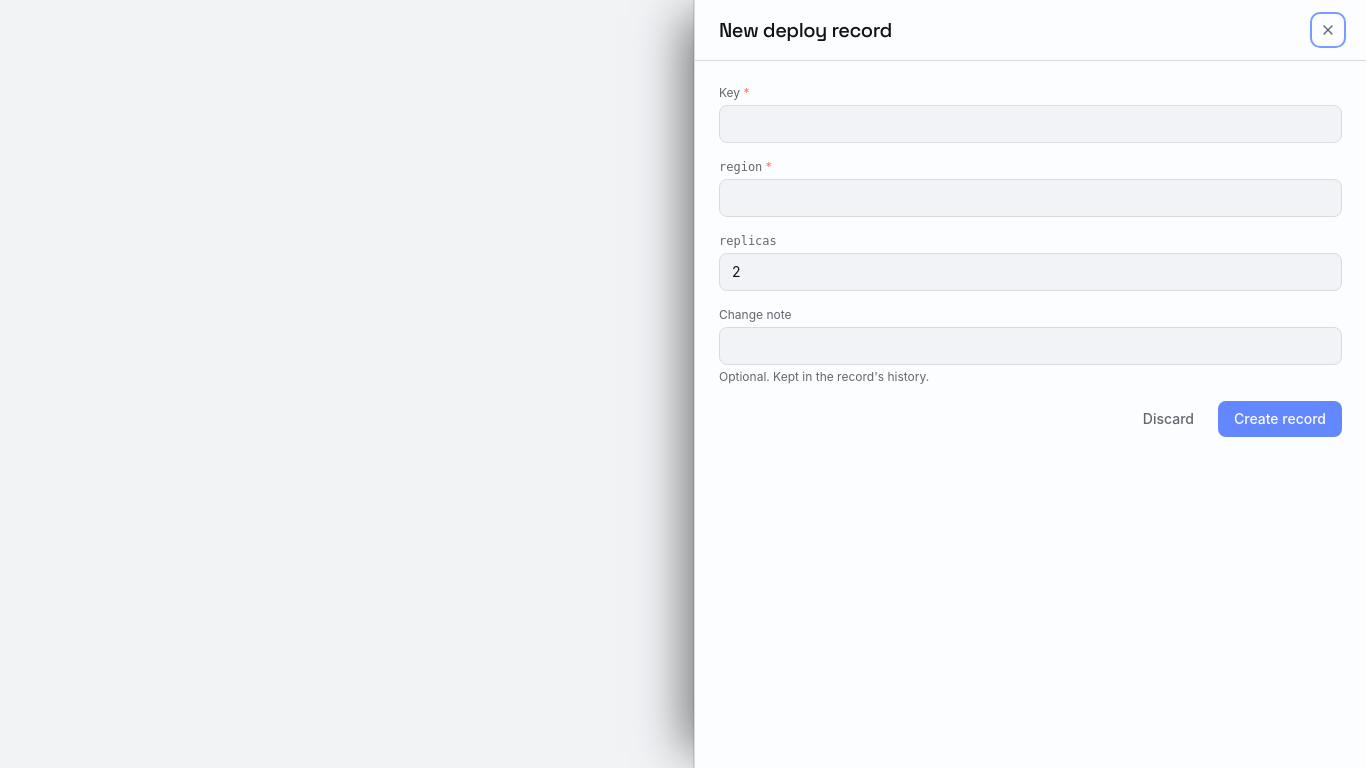
creating a record with a split restriction › refuses a key only the read side admits, before sending anything
Step 1. Type "pub/a" into the field labelled "Key *" → (1030, 124), box [719,105,1342,143]
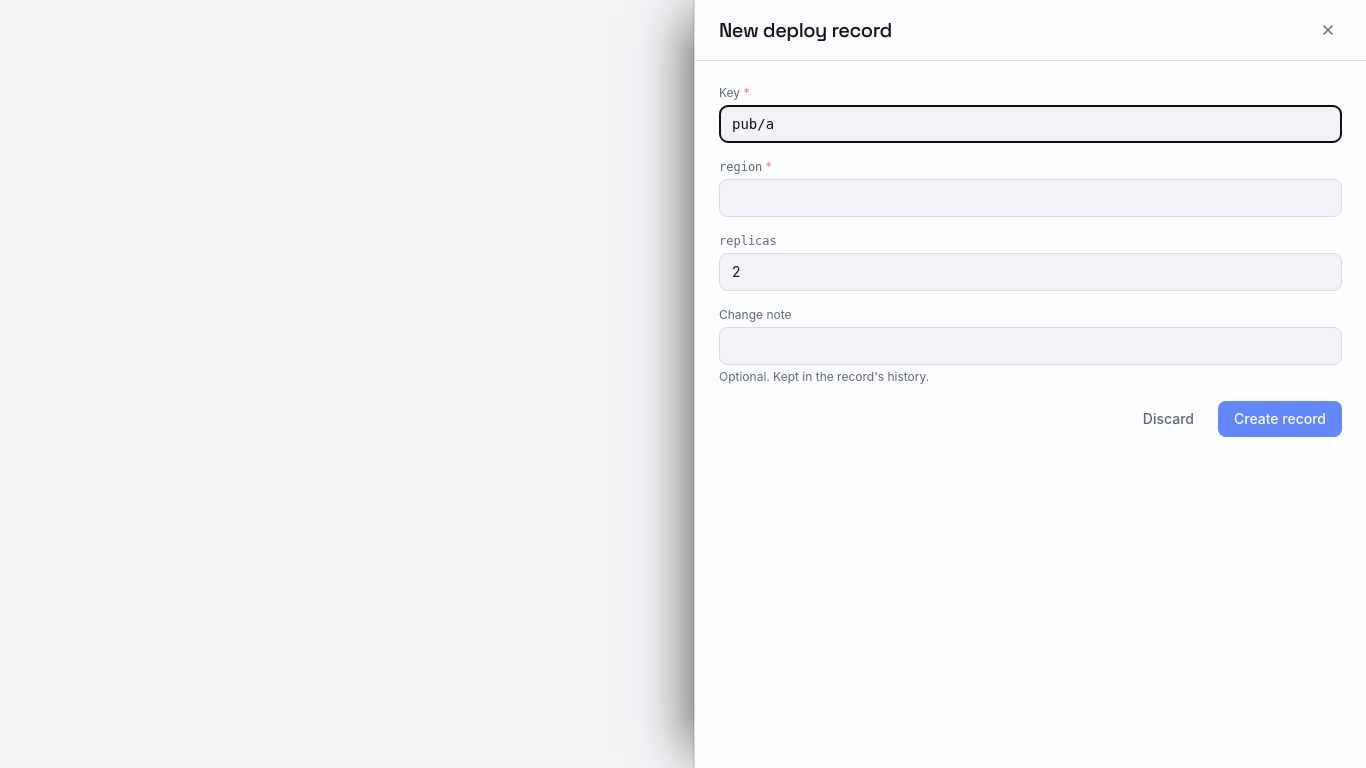
Step 2. Type "us" into the field labelled "region *" → (1030, 198), box [719,179,1342,217]
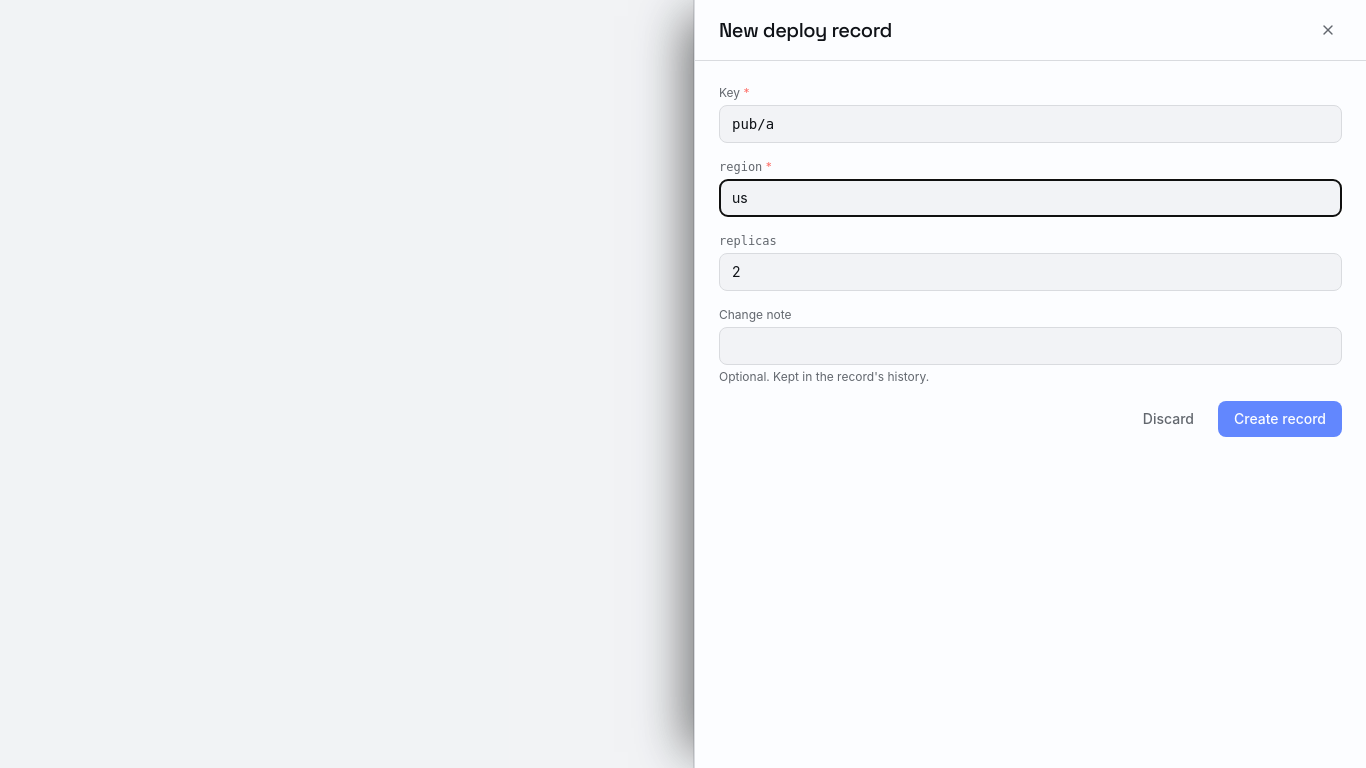
Step 3. Click the button "Create record" → (1280, 419), box [1218,401,1342,437]
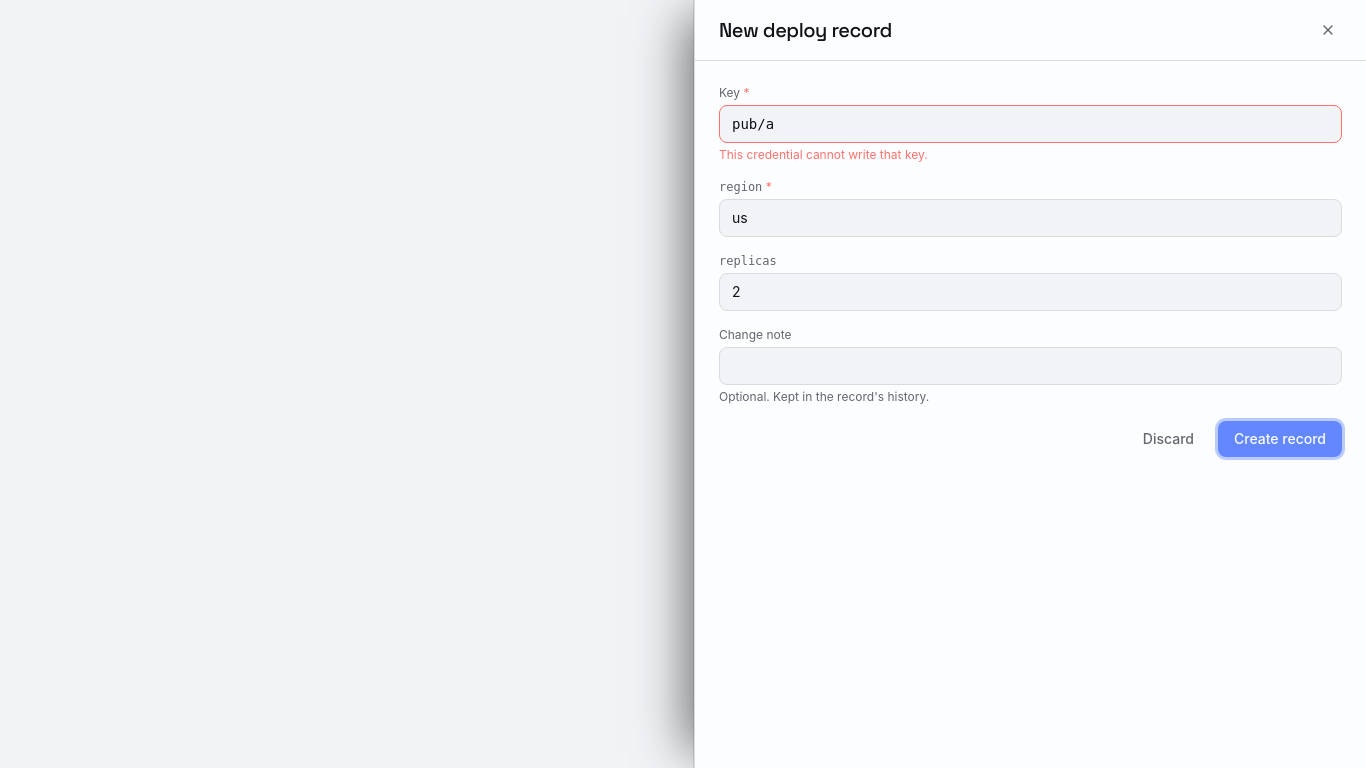
Result: the text "This credential cannot write that key." is shown at [719,147,928,162]
